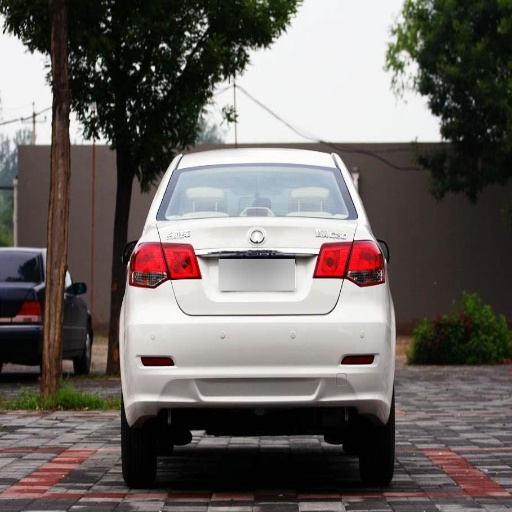back_bumper: (123, 279, 394, 420)
tailgate: (155, 217, 356, 313)
